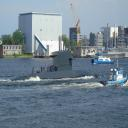submarine: (10, 36, 96, 82)
